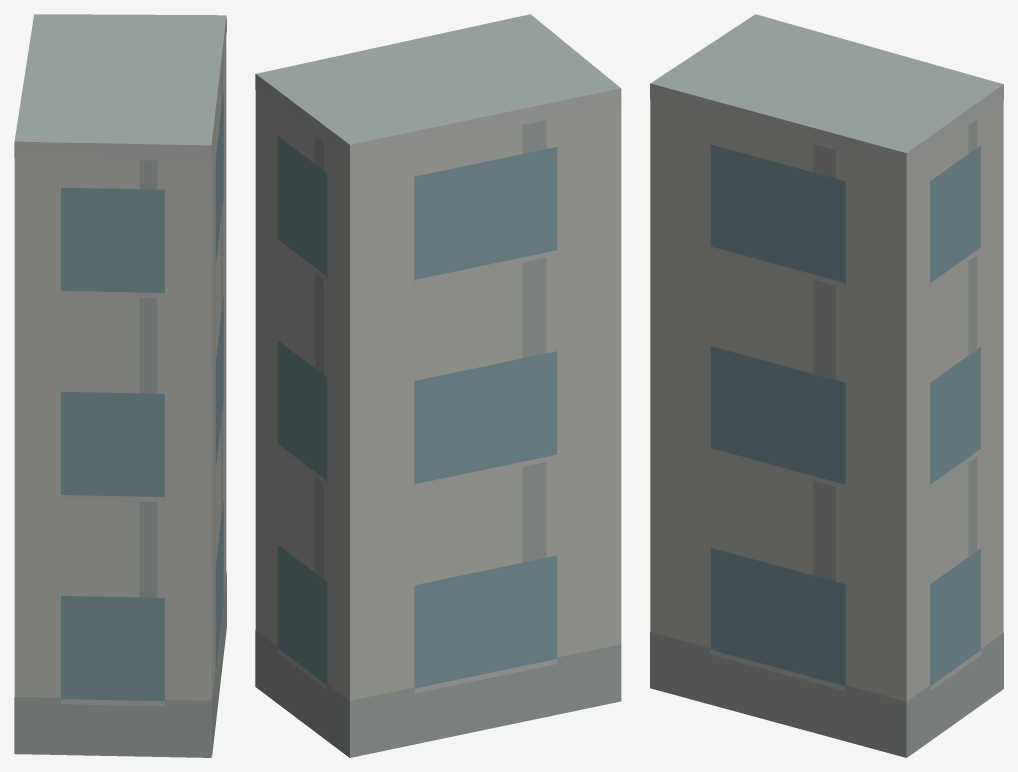
Rendered from survey-upis-33047636.glb.
The picture shows the model from 3 angles, left to right: view 1: azimuth 30°, elevation 25°; view 2: azimuth 150°, elevation 25°; view 3: azimuth 270°, elevation 25°; orthographic projection.
Visible parts, largest first — view 1: survey-upis-33047636.tmp; view 2: survey-upis-33047636.tmp; view 3: survey-upis-33047636.tmp.
Boxes of the visible parts, x1,y1,x2,y2 form: survey-upis-33047636.tmp: [14, 14, 226, 757]; survey-upis-33047636.tmp: [255, 14, 621, 757]; survey-upis-33047636.tmp: [650, 14, 1003, 757].
Bounding box in the file's own units: 4.52 × 9.15 × 4.85.
